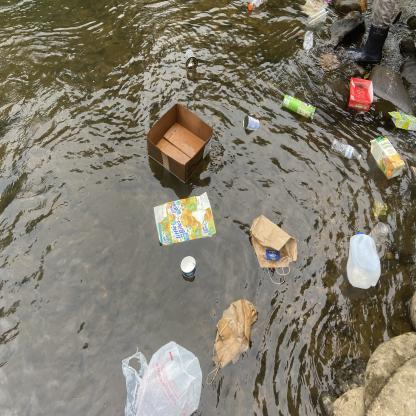trash: (116, 339, 204, 416), (141, 100, 216, 186), (203, 294, 259, 387), (245, 211, 300, 287), (152, 190, 220, 248), (342, 226, 380, 290), (368, 134, 405, 180), (279, 92, 317, 123), (347, 75, 376, 112), (328, 137, 362, 163), (387, 108, 416, 134), (306, 5, 330, 28), (178, 252, 198, 278), (370, 198, 389, 221), (241, 111, 260, 131), (182, 47, 199, 69), (303, 29, 315, 56), (243, 0, 268, 12)
